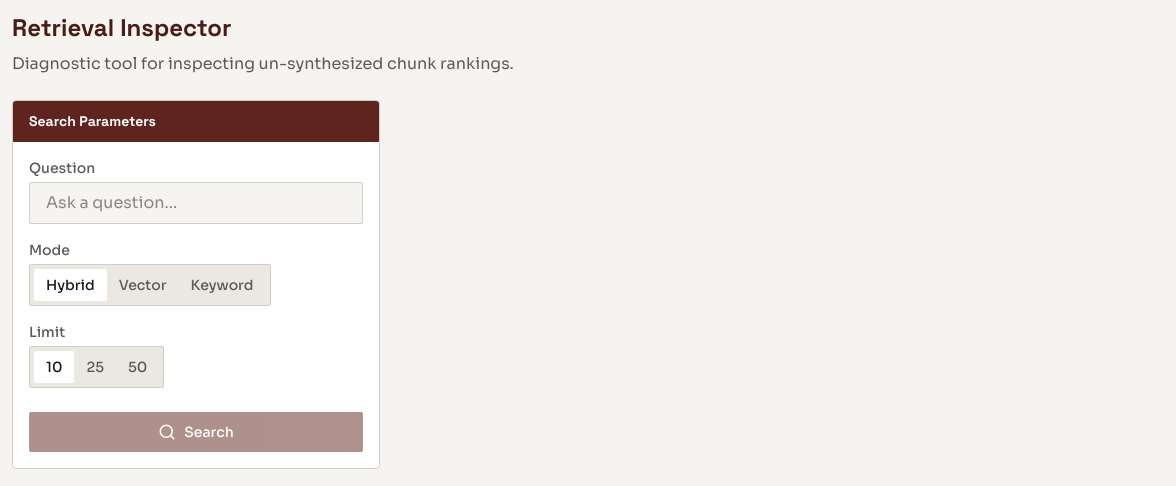
Scenario: SearchPage › honours the threshold the API sends, not a hardcoded one
In the field with placeholder "Ask a question...": (196, 203) left=29, top=182, right=363, bottom=224, type "test question"
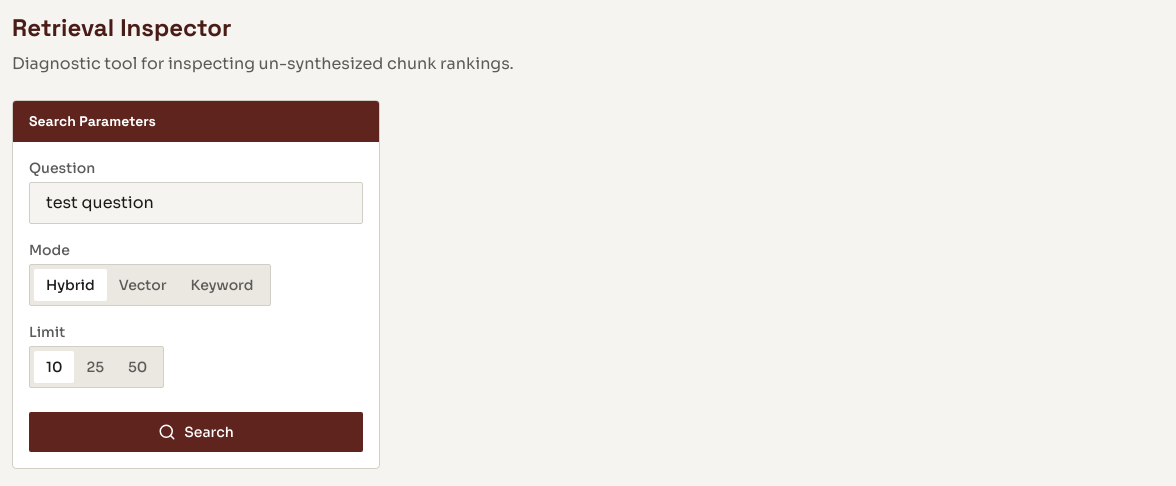
Click the button "Search": (196, 432) left=29, top=412, right=363, bottom=452
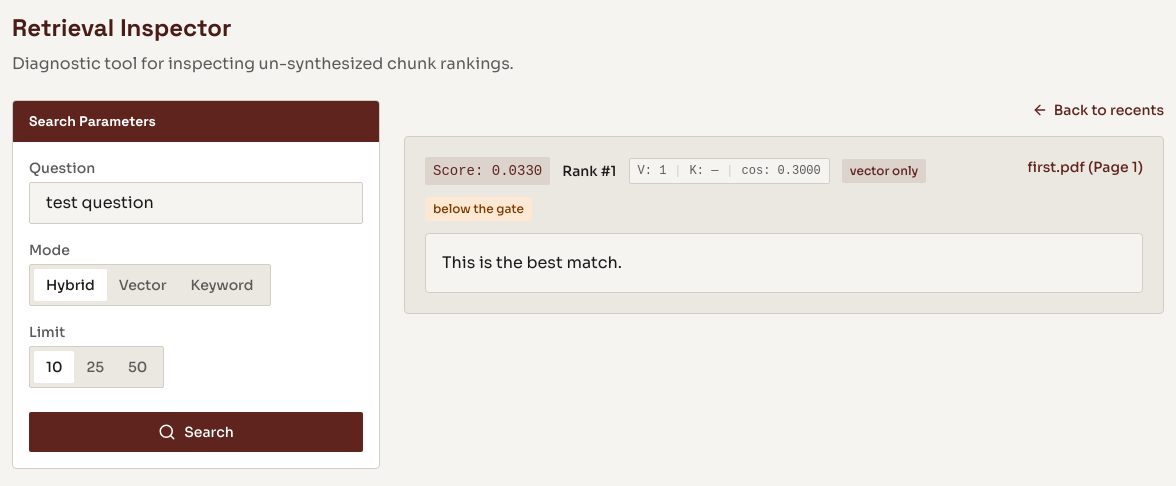
Expected: the text "below the gate" is shown, left=425, top=197, right=532, bottom=221
